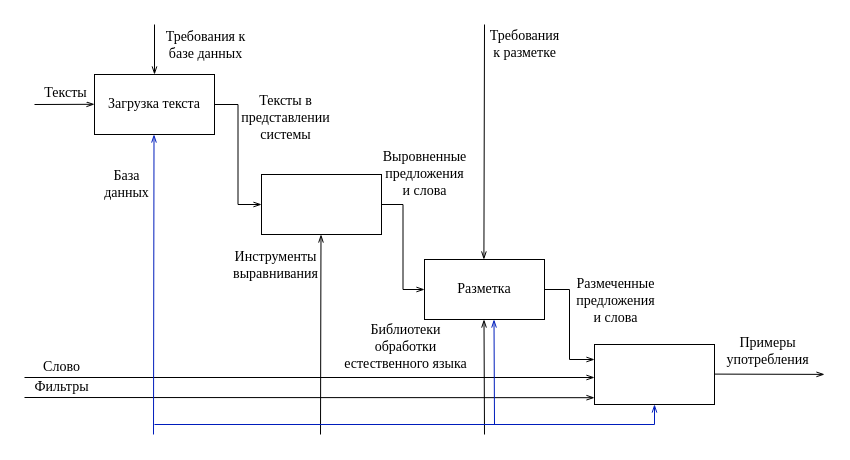
Some shapes in this 850 by 460 pixel diagram are drawn without their labels. The centre of each missing label's shape, as x and y in pixels:
"Выравнивание" goes at point (321, 204).
"Поиск примеров" goes at point (654, 374).
